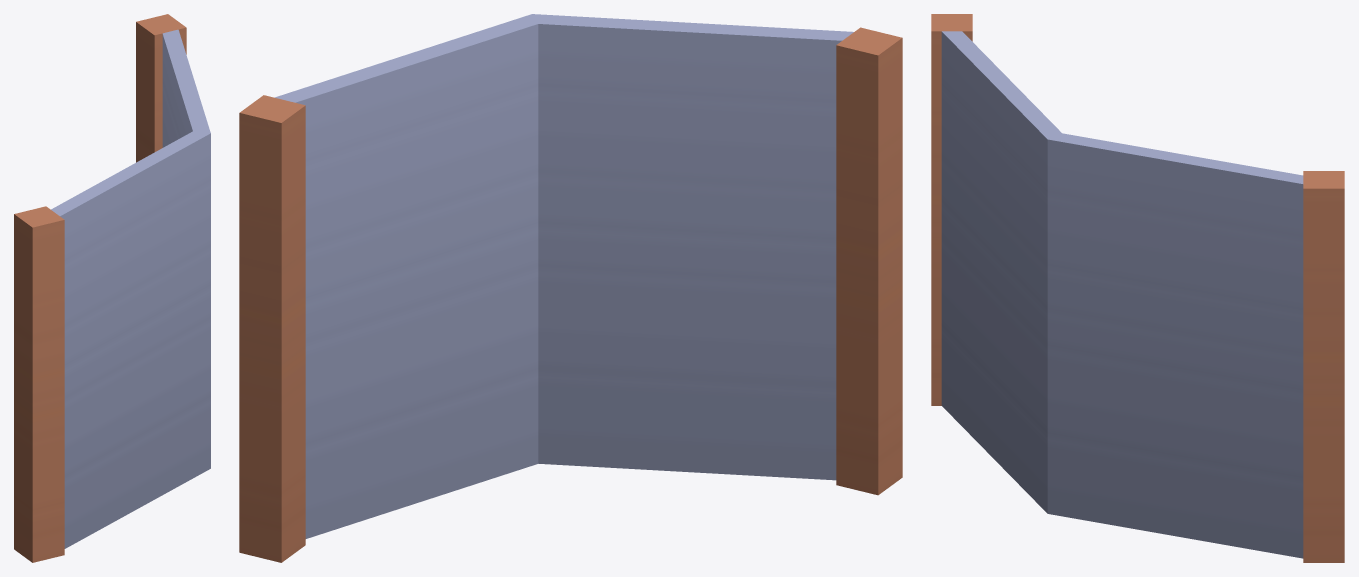
Rendered from wall-corner-edge.fbx.
3 views of the same model, side by side, from view 1: azimuth 30°, elevation 25°; view 2: azimuth 150°, elevation 25°; view 3: azimuth 270°, elevation 25° (orthographic). The views are drawn at different scales.
Visible parts, largest first — view 1: wall-corner-edge; view 2: wall-corner-edge; view 3: wall-corner-edge.
Boxes of the visible parts, x1,y1,x2,y2 form: wall-corner-edge: (14, 14, 210, 562); wall-corner-edge: (239, 14, 902, 562); wall-corner-edge: (931, 14, 1344, 562).
Bounding box in the file's own units: 100 × 100 × 100.
1 material, 1 textured.
